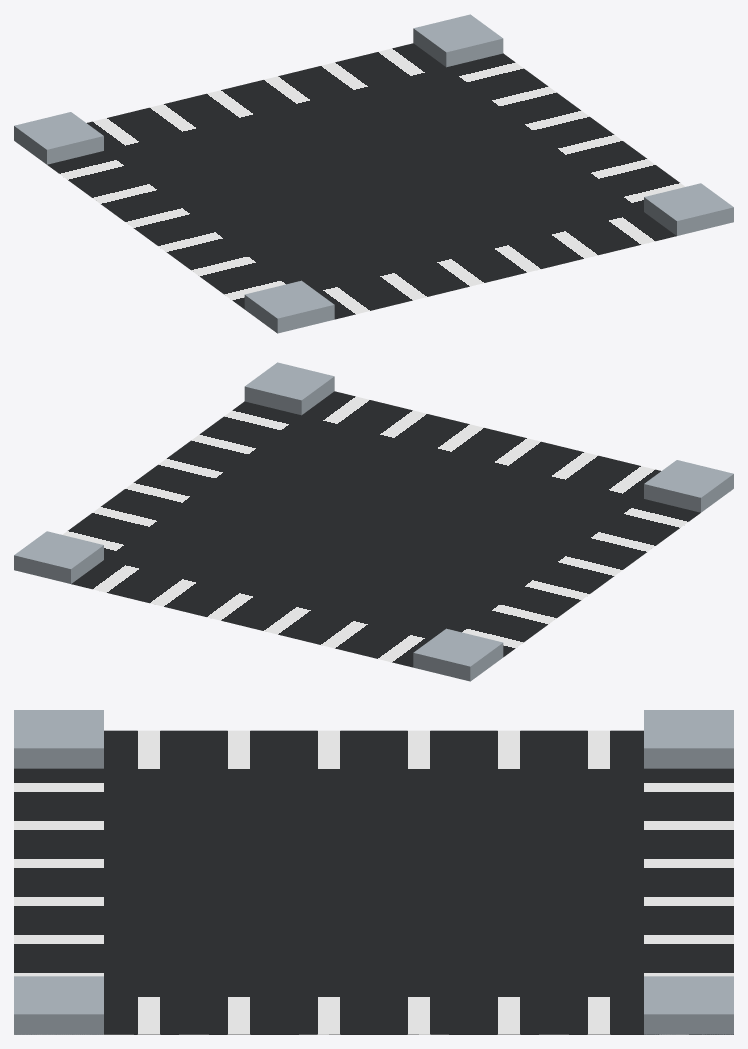
Rendered from Road-cross.c0149426.gltf.
3 renders of one model, top to bottom at view 1: azimuth 30°, elevation 25°; view 2: azimuth 150°, elevation 25°; view 3: azimuth 270°, elevation 25°, orthographic. The views are drawn at different scales.
Visible parts, largest first — view 1: Road, Sidewalk bottom left, Sidewalk Top right, Sidewalk Top left, Sidewalk bottom right; view 2: Road, Sidewalk Top left, Sidewalk bottom right, Sidewalk bottom left, Sidewalk Top right; view 3: Road, Sidewalk Top left, Sidewalk bottom left, Sidewalk Top right, Sidewalk bottom right.
Boxes of the visible parts, box(x1,y1,x2,y2) form: Road: box(47, 43, 685, 319); Sidewalk bottom left: box(244, 280, 334, 333); Sidewalk Top right: box(413, 14, 503, 67); Sidewalk Top left: box(14, 112, 103, 164); Sidewalk bottom right: box(644, 183, 733, 235); Road: box(62, 391, 700, 667); Sidewalk Top left: box(413, 628, 503, 681); Sidewalk bottom right: box(244, 362, 334, 415); Sidewalk bottom left: box(644, 460, 733, 512); Sidewalk Top right: box(14, 531, 103, 583); Road: box(14, 730, 733, 1034); Sidewalk Top left: box(644, 710, 733, 768); Sidewalk bottom left: box(14, 710, 103, 768); Sidewalk Top right: box(644, 976, 733, 1034); Sidewalk bottom right: box(14, 976, 103, 1034).
Bounding box in the file's own units: 2 × 0.0625 × 2.
Materials: 1 (1 with a texture image).
